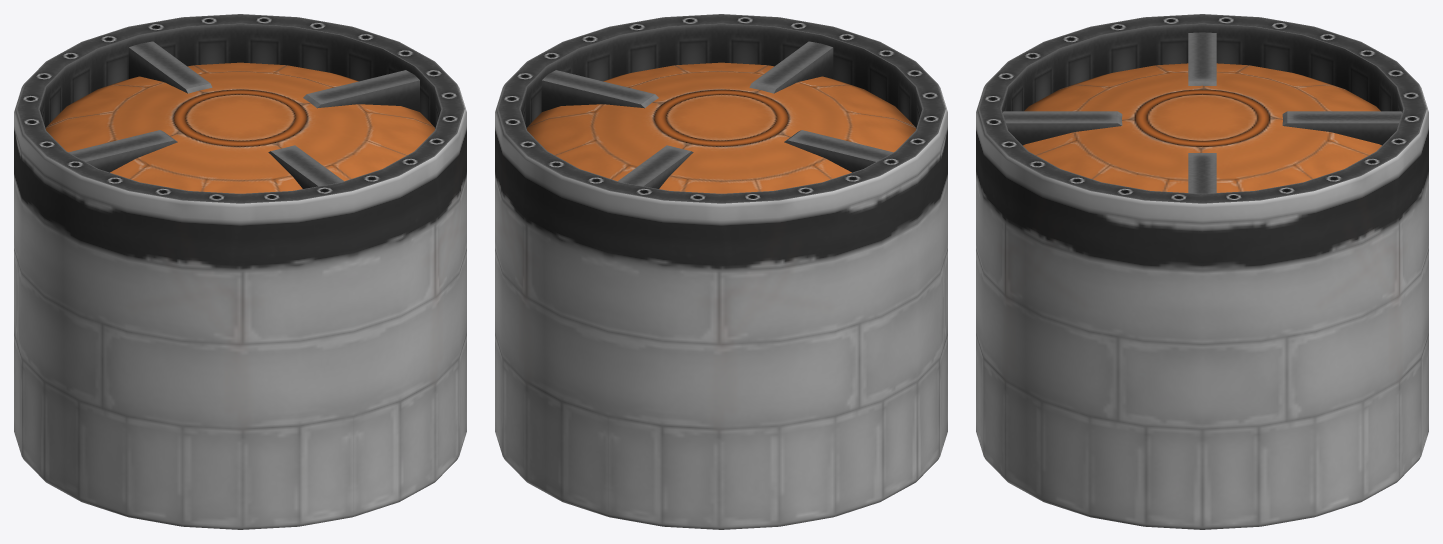
File: bluedog_thorShortTank.dae
3 renders of one model, left to right at view 1: azimuth 30°, elevation 25°; view 2: azimuth 150°, elevation 25°; view 3: azimuth 270°, elevation 25°, orthographic.
Visible parts, largest first — view 1: ThorShortTank2; view 2: ThorShortTank2; view 3: ThorShortTank2.
Boxes of the visible parts, bbox=[...] form: ThorShortTank2: bbox=[14, 14, 466, 529]; ThorShortTank2: bbox=[495, 14, 947, 529]; ThorShortTank2: bbox=[976, 14, 1428, 529].
Bounding box in the file's own units: 1.5 × 1.19 × 1.5.
